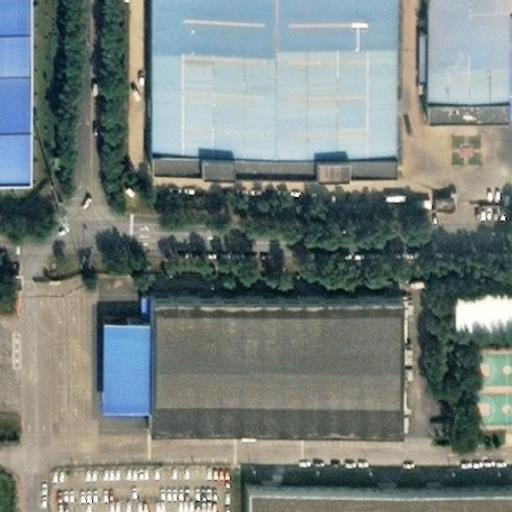building: (136, 0, 381, 158), (140, 285, 389, 417), (239, 474, 512, 512), (88, 310, 140, 400), (440, 281, 512, 317), (495, 4, 512, 106)
